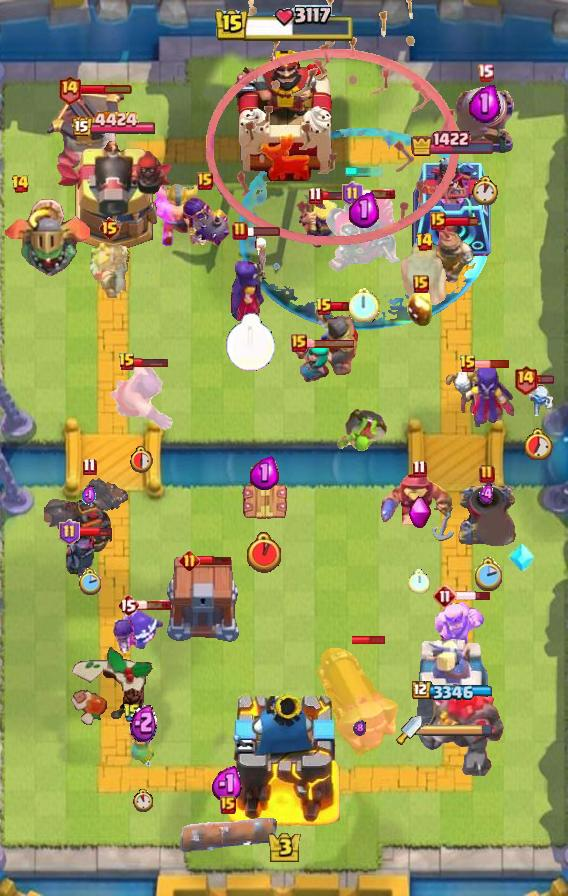bar: (80, 83, 133, 95), (304, 338, 356, 349), (77, 525, 113, 538), (444, 215, 479, 228), (455, 590, 492, 602), (136, 599, 172, 611), (245, 225, 281, 237), (360, 188, 396, 200), (352, 634, 387, 646), (134, 356, 169, 368), (320, 189, 355, 201), (197, 555, 233, 566), (475, 359, 510, 369), (536, 374, 555, 385), (331, 301, 350, 312)
bar-level: (513, 364, 538, 395), (57, 74, 82, 105), (433, 584, 457, 608), (98, 216, 121, 240), (59, 519, 80, 545), (342, 181, 363, 207), (117, 593, 139, 617), (179, 550, 200, 571), (415, 232, 434, 252), (11, 174, 30, 194), (123, 703, 141, 723), (459, 354, 477, 374), (118, 352, 136, 372), (315, 297, 333, 317), (477, 63, 494, 82), (479, 464, 495, 484), (232, 221, 248, 241), (220, 796, 236, 814), (291, 334, 307, 352), (413, 275, 429, 293), (430, 212, 446, 230), (197, 172, 213, 190), (412, 459, 427, 478), (82, 457, 97, 476), (308, 186, 323, 205)
barbarian-evolution: (297, 195, 353, 252), (435, 600, 485, 659)
bomber-evolution: (178, 195, 232, 251)
cannoneer-tower: (53, 138, 175, 256)
clock: (225, 313, 276, 372), (247, 532, 281, 573), (349, 287, 380, 322), (473, 557, 502, 591), (525, 428, 553, 460), (471, 176, 500, 206), (130, 445, 155, 473), (78, 568, 101, 595), (408, 569, 430, 594), (132, 789, 154, 812)
dagger-duchess-tower: (416, 637, 490, 731)
dagger-duchess-tower-bar: (422, 723, 494, 737)
electro-spirit: (118, 602, 166, 650)
elite-barbarian: (151, 181, 202, 247)
elixir: (469, 83, 501, 123), (211, 766, 245, 803), (349, 192, 379, 228), (130, 703, 157, 742), (250, 456, 279, 490), (479, 483, 495, 505), (82, 485, 96, 506), (353, 720, 366, 736)
evolution-symbol: (407, 496, 432, 530)
executioner: (109, 366, 175, 432)
fire-spirit: (405, 285, 437, 329)
goblin-ball: (335, 407, 389, 455)
ice-spirit-evolution-symbol: (508, 540, 536, 574)
king-tower: (227, 688, 342, 826), (232, 45, 336, 181)
king-tower-bar: (213, 5, 355, 45)
knight: (316, 307, 359, 376)
mini-pekka: (64, 532, 97, 579)
mortar: (456, 481, 518, 549)
mortar-evolution: (453, 86, 517, 156)
queen-tower: (412, 158, 494, 256)
rascal-girl: (290, 340, 330, 384)
royal-ghost: (397, 240, 451, 306), (88, 240, 130, 298)
royal-recruit: (423, 223, 475, 287)
skeleton: (522, 377, 556, 421)
skeleton-evolution: (111, 620, 140, 656)
tesla: (239, 479, 289, 525)
the-log: (177, 816, 279, 852)
tower-bar: (71, 111, 157, 139), (410, 130, 496, 157), (412, 681, 495, 702)
valkyrie: (124, 718, 162, 770)
witch: (444, 365, 514, 427), (227, 235, 273, 323)
